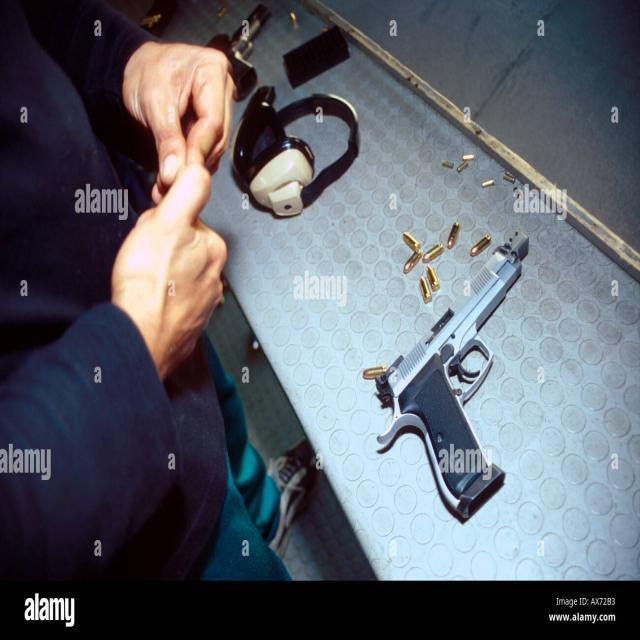guns: (376, 235, 530, 523)
